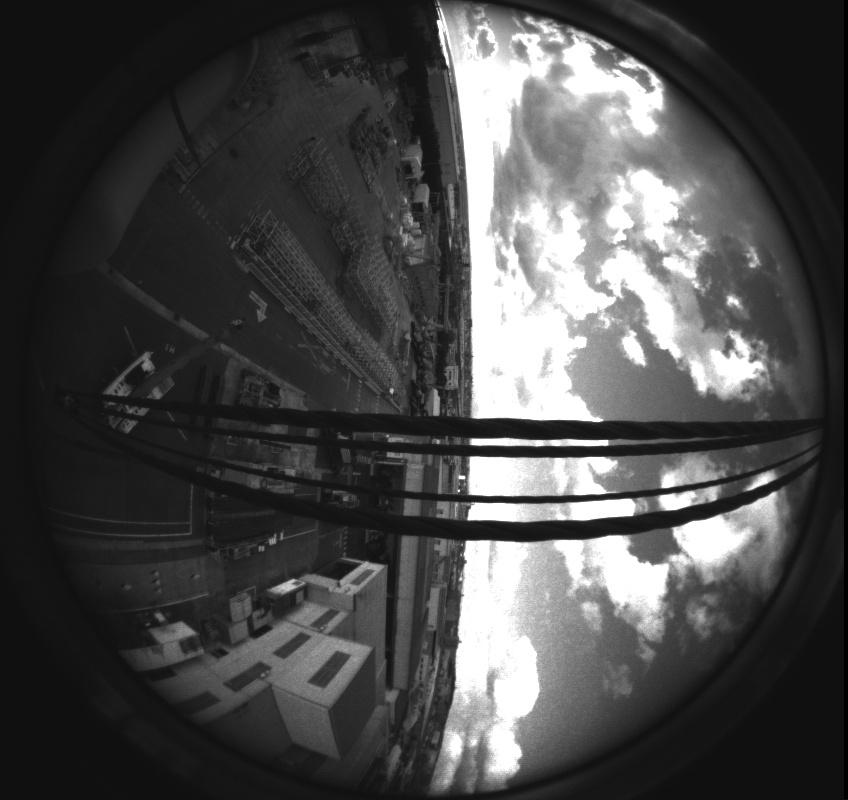rope: (21, 381, 841, 550)
